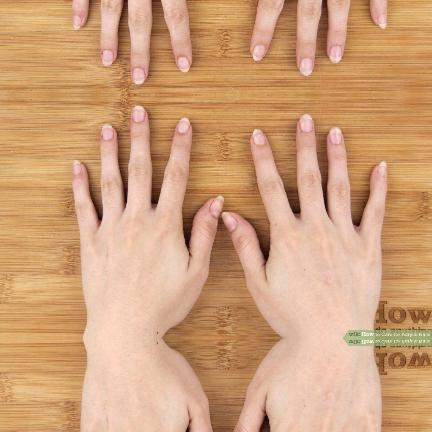Nail: (221, 210, 238, 232), (209, 194, 224, 217), (300, 113, 313, 131), (300, 57, 313, 75), (252, 128, 266, 144), (252, 44, 266, 60), (133, 104, 145, 122), (133, 66, 145, 84), (330, 126, 342, 143), (178, 116, 190, 133), (330, 45, 342, 62), (178, 55, 190, 72), (102, 123, 113, 139), (102, 49, 113, 65), (378, 160, 387, 175), (378, 13, 387, 28), (73, 159, 81, 174), (73, 14, 81, 29)
